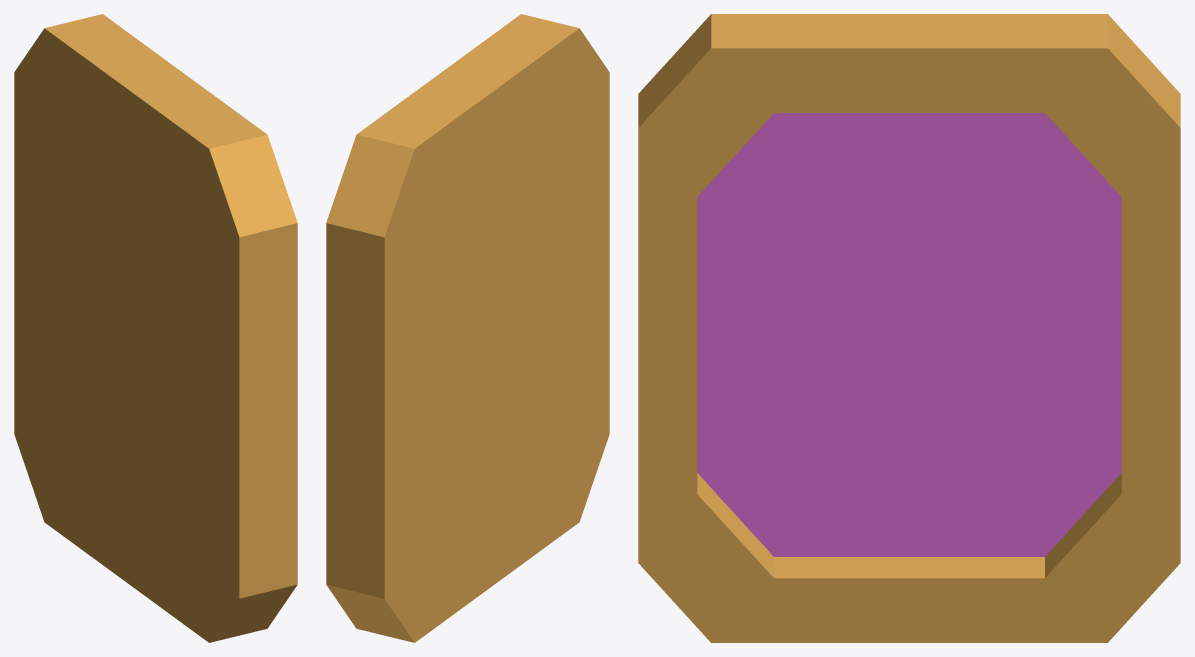
Rendered from zdjecie.fbx.
3 renders of one model, left to right at view 1: azimuth 30°, elevation 25°; view 2: azimuth 150°, elevation 25°; view 3: azimuth 270°, elevation 25°, orthographic. The views are drawn at different scales.
Parts seen in each view (by area): view 1: Cube; view 2: Cube; view 3: Cube.
Part boxes in pixels (x1=…): Cube: x1=14, y1=14, x2=297, y2=642; Cube: x1=326, y1=14, x2=609, y2=642; Cube: x1=638, y1=14, x2=1180, y2=642.
Bounding box in the file's own units: 35.24 × 285 × 236.
